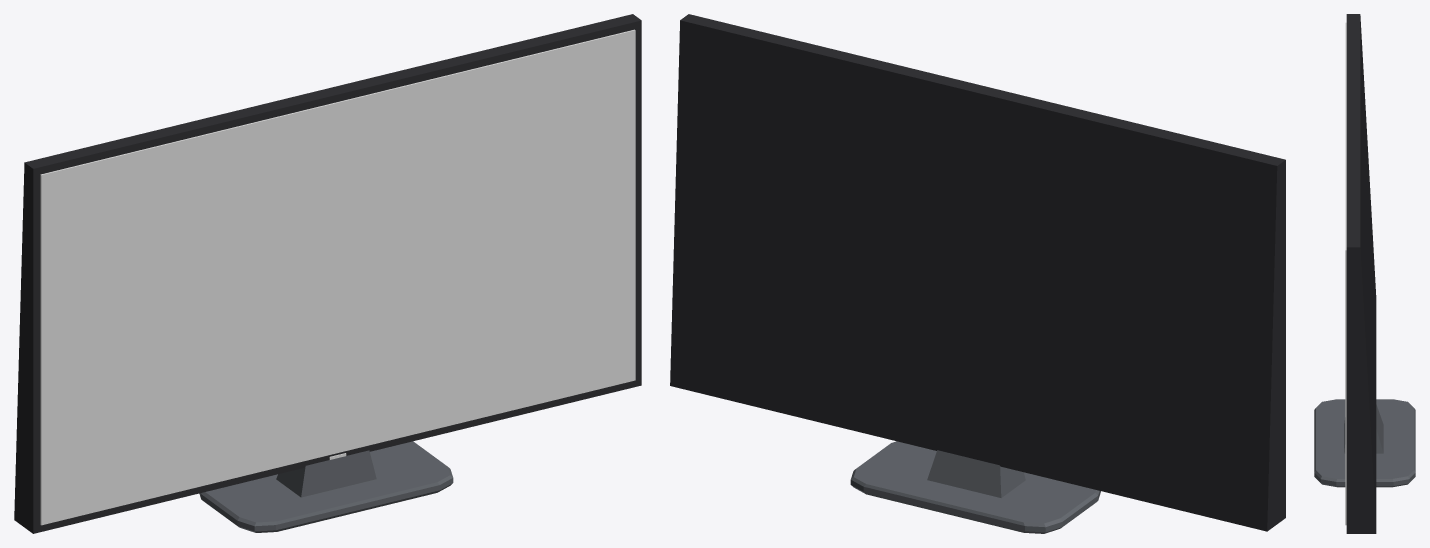
File: FN_TV_Flatscreen.fbx
The picture shows the model from 3 angles, left to right: view 1: azimuth 30°, elevation 25°; view 2: azimuth 150°, elevation 25°; view 3: azimuth 270°, elevation 25°; orthographic projection. The views are drawn at different scales.
Parts seen in each view (by area): view 1: FN_TV_Flatscreen; view 2: FN_TV_Flatscreen; view 3: FN_TV_Flatscreen.
Part boxes in pixels (<box>): FN_TV_Flatscreen: <box>14,14,641,533</box>; FN_TV_Flatscreen: <box>670,14,1285,533</box>; FN_TV_Flatscreen: <box>1314,14,1415,533</box>.
Bounding box in the file's own units: 120 × 76 × 22.
Materials: 2 (1 with a texture image).
